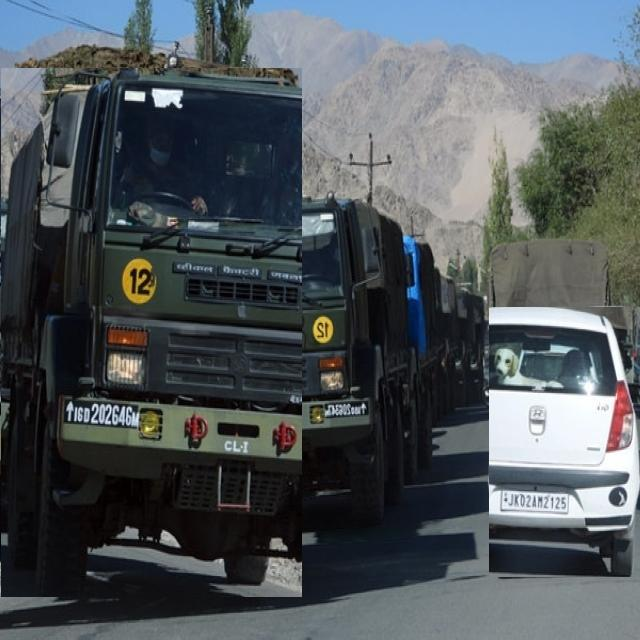accident: (489, 308, 640, 577)
truck: (1, 68, 301, 597), (292, 195, 409, 522)
